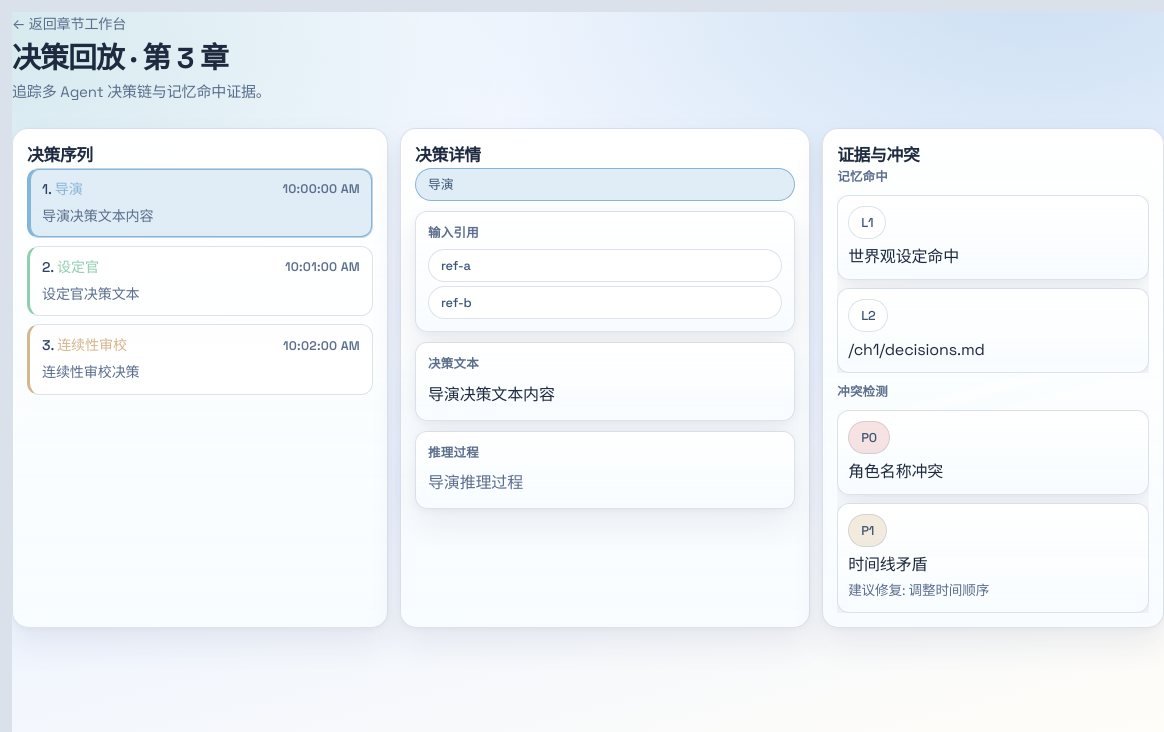
Test: TraceReplayPage › shows "无" when selected decision has no input refs
This screenshot has width=1164, height=732.
Step 1. Click the button with test id "decision-dec-2" → coordinates (78, 267), box [27, 246, 373, 316]
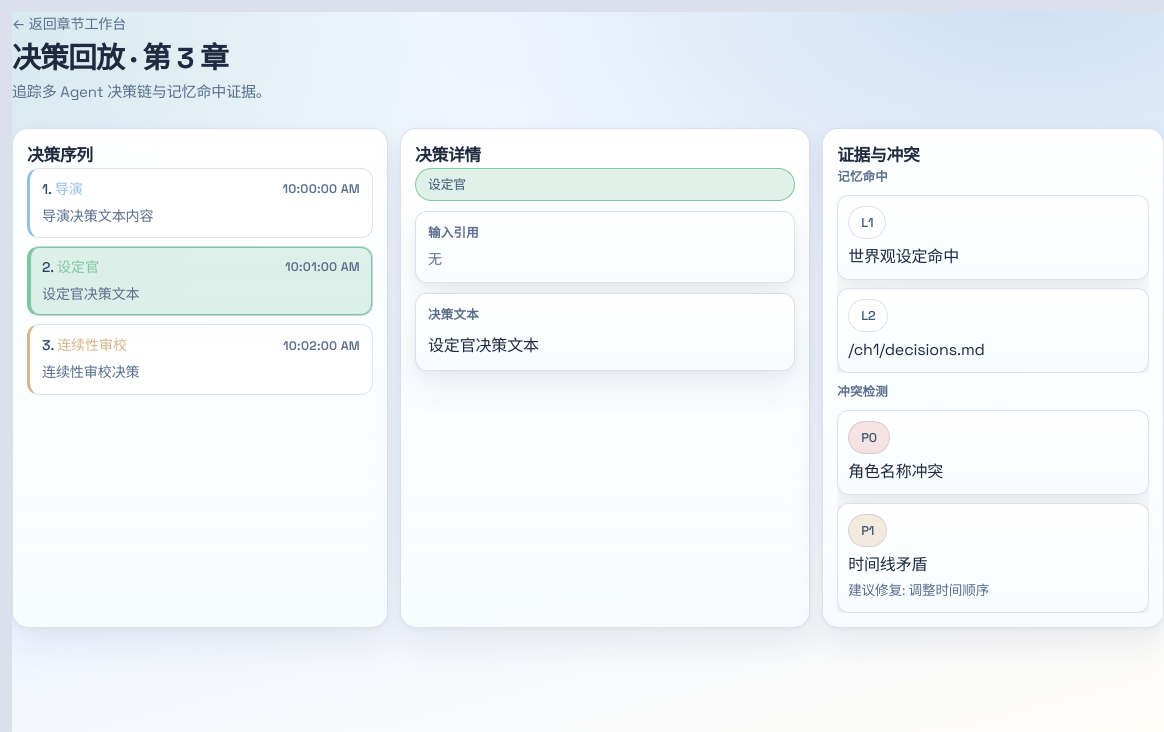
Expected: the text "无" is shown, [428, 250, 442, 268]
